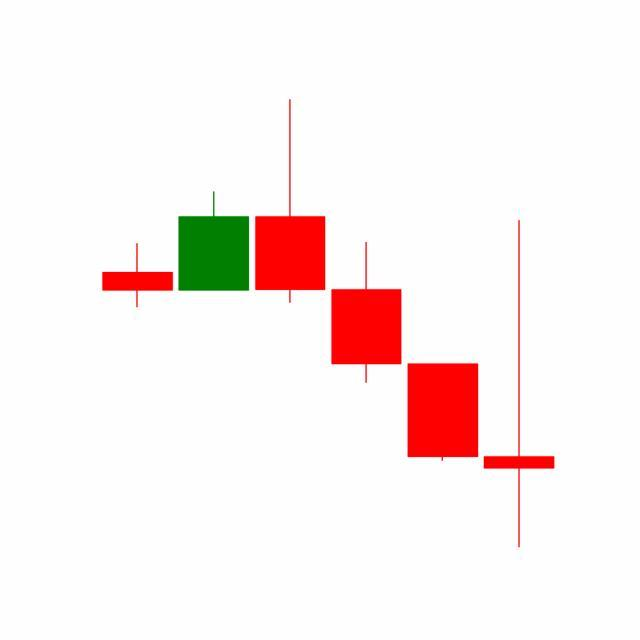Marubozu: (404, 363, 482, 464)
